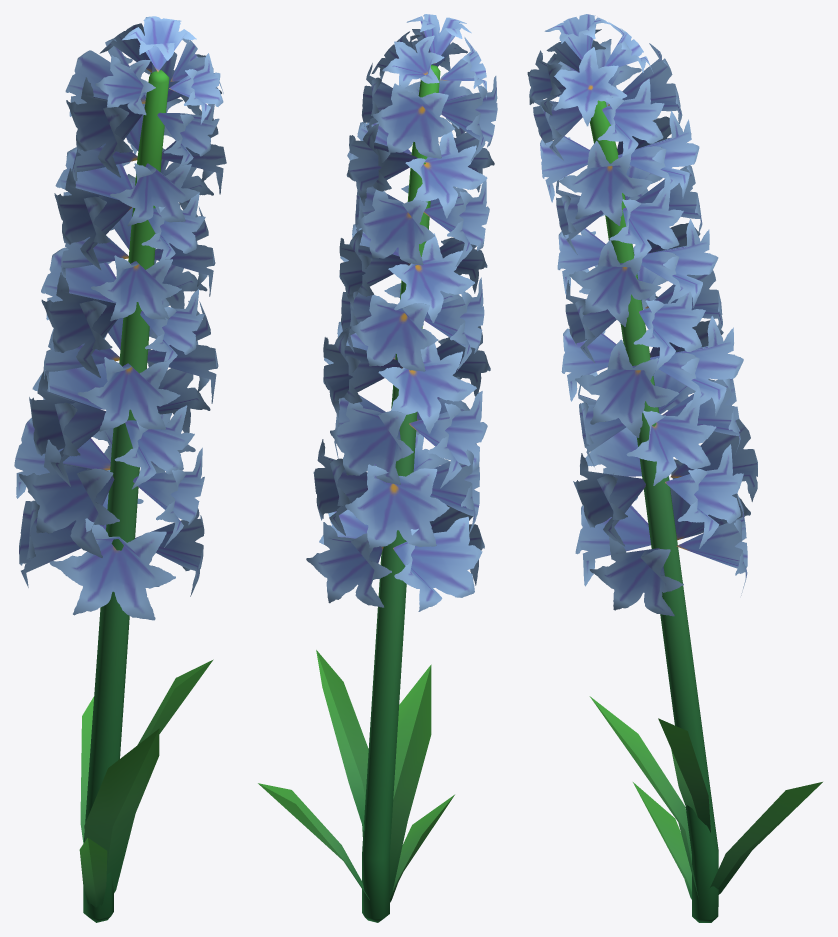
The model's file is Hyacinth.fbx.
3 renders of one model, left to right at view 1: azimuth 30°, elevation 25°; view 2: azimuth 150°, elevation 25°; view 3: azimuth 270°, elevation 25°, orthographic. The views are drawn at different scales.
Visible parts, largest first — view 1: Hyacinth; view 2: Hyacinth; view 3: Hyacinth.
Boxes of the visible parts, x1,y1,x2,y2 form: Hyacinth: [14, 16, 226, 922]; Hyacinth: [258, 14, 497, 922]; Hyacinth: [527, 14, 822, 922].
Size of the model in its own units: 16.64 by 83.13 by 24.91.
Materials: 1 (1 with a texture image).
